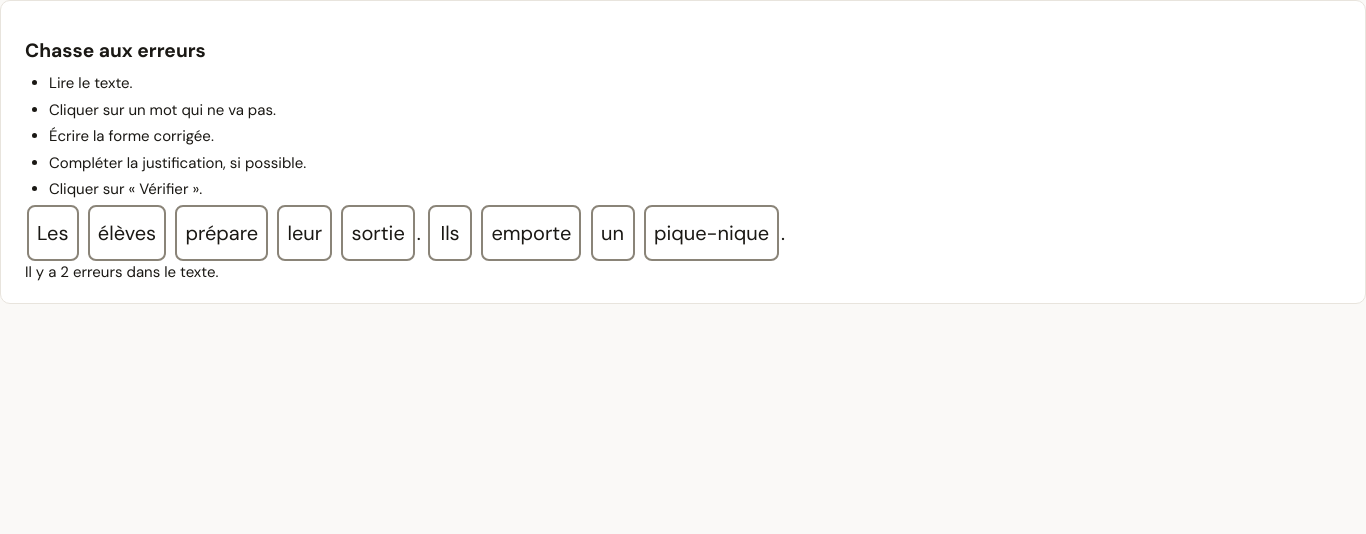
Chasse : lecture et consignes › « Vérifier » n’apparaît qu’après avoir cliqué sur un mot, et reste bloqué sans forme corrigée
The image size is (1366, 534).
Click the button "prépare". click: (222, 233)
box: [175, 205, 268, 261]
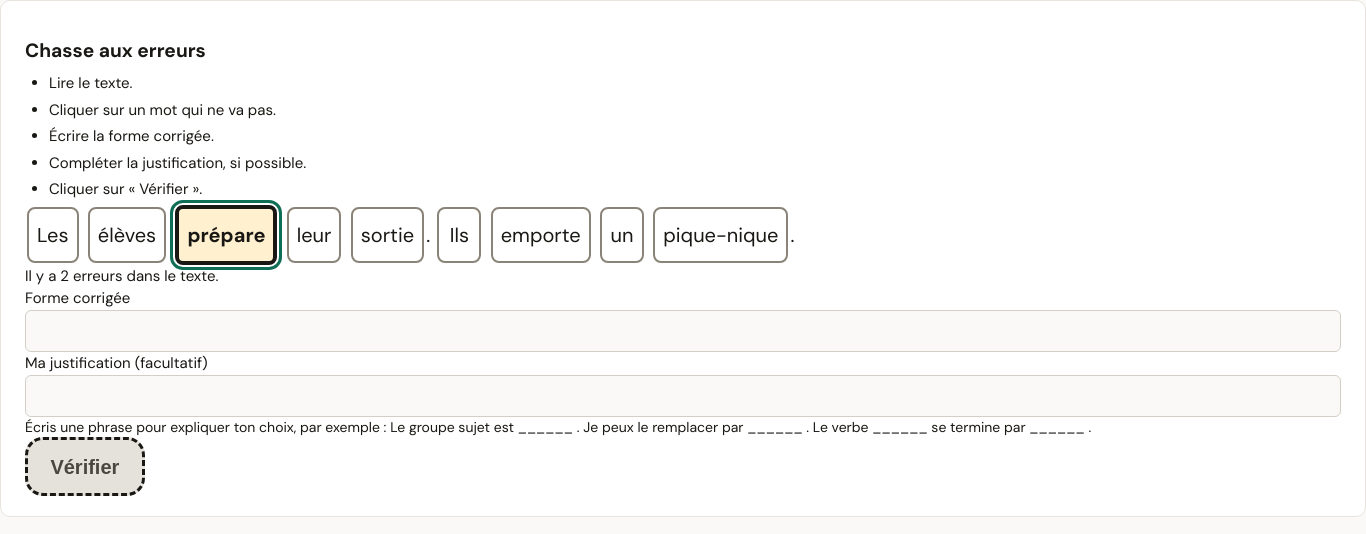
Check: the button "Vérifier" is disabled, box [25, 437, 145, 496]
Type "préparent" into the field labelled "Forme corrigée". click: (683, 331)
box: [25, 310, 1341, 352]
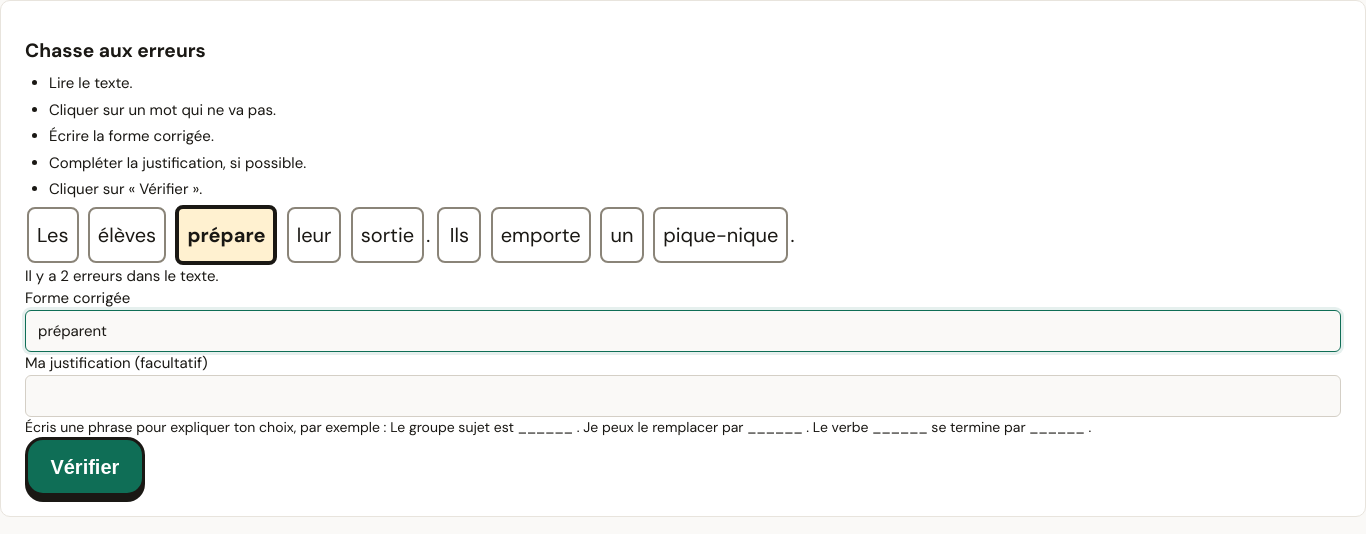
Check: the button "Vérifier" is enabled, box [25, 437, 145, 496]
